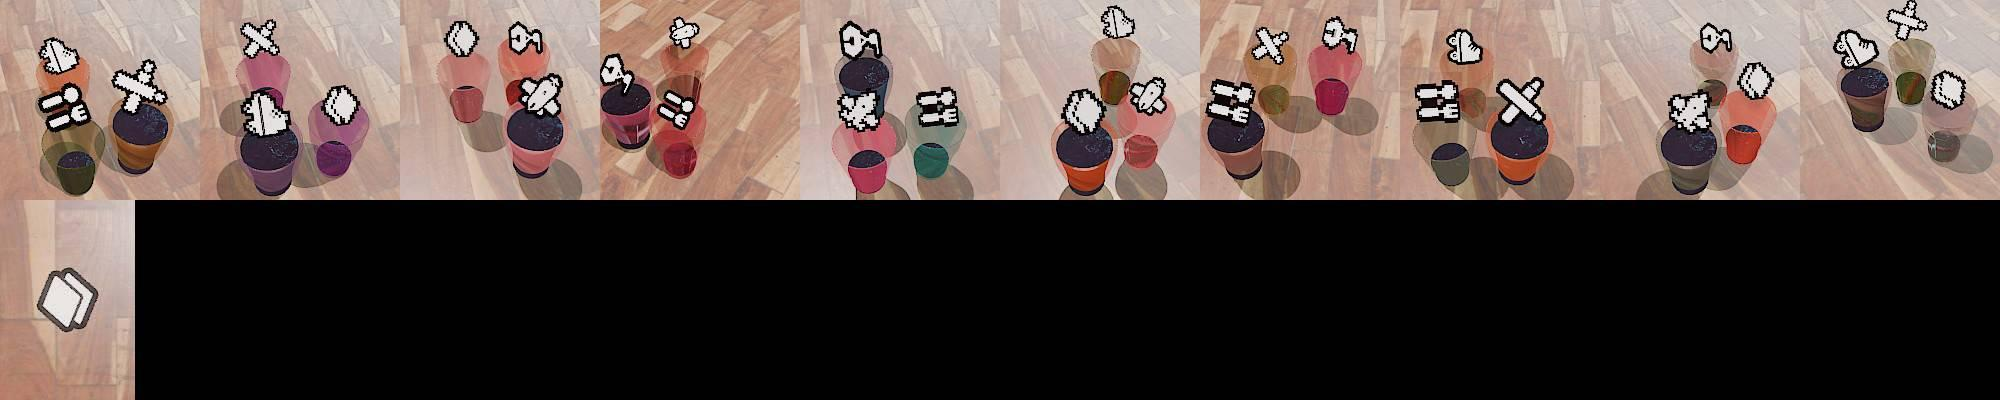icon: (35, 267, 100, 334), (110, 59, 168, 117), (37, 84, 93, 131), (1495, 76, 1547, 126), (240, 88, 292, 136), (1204, 78, 1256, 125), (1060, 88, 1109, 137), (517, 71, 564, 118), (1414, 78, 1461, 123), (1667, 88, 1714, 132), (914, 85, 961, 127), (1833, 29, 1880, 69), (657, 87, 699, 130), (836, 90, 880, 131), (839, 19, 882, 60), (239, 19, 281, 60), (1928, 70, 1970, 110), (1251, 25, 1291, 66), (1887, 1, 1930, 39), (1129, 76, 1168, 116), (321, 84, 359, 125), (39, 37, 79, 75), (1735, 61, 1773, 100), (1445, 27, 1484, 64), (444, 19, 480, 58), (1320, 16, 1357, 53), (599, 52, 632, 92), (507, 21, 544, 56), (1100, 5, 1136, 40), (667, 16, 700, 51), (1700, 21, 1734, 54)
